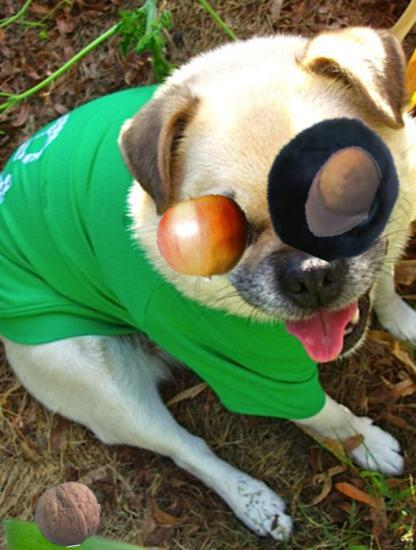Apple: (157, 190, 251, 284)
Blueberry: (261, 114, 406, 259)
Hazelnut: (290, 142, 391, 243)
Walnut: (35, 481, 101, 547)
